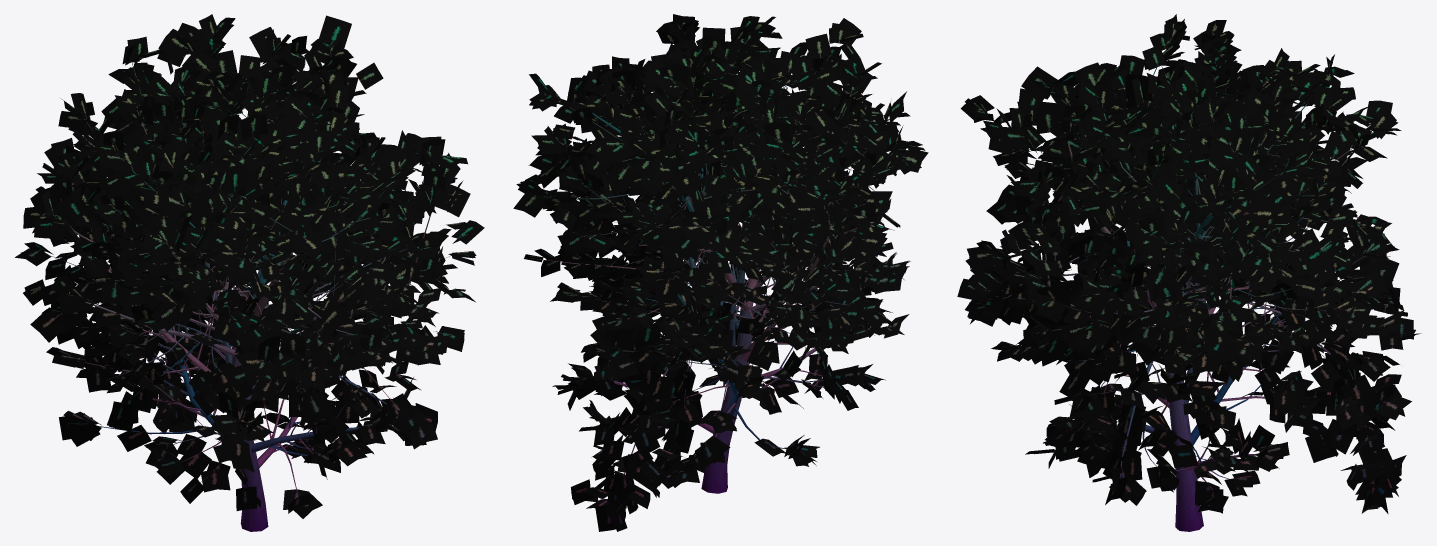
The picture shows the model from 3 angles, left to right: view 1: azimuth 30°, elevation 25°; view 2: azimuth 150°, elevation 25°; view 3: azimuth 270°, elevation 25°; orthographic projection. The views are drawn at different scales.
Parts seen in each view (by area): view 1: pinyon_pine_LOD1; view 2: pinyon_pine_LOD1; view 3: pinyon_pine_LOD1.
Part boxes in pixels (x1,y1,x2,y2): pinyon_pine_LOD1: (15,14,484,531); pinyon_pine_LOD1: (513,14,928,531); pinyon_pine_LOD1: (957,14,1420,531).
Size of the model in its own units: 9.33 by 10.66 by 9.44.
Materials: 2 (2 with a texture image).
